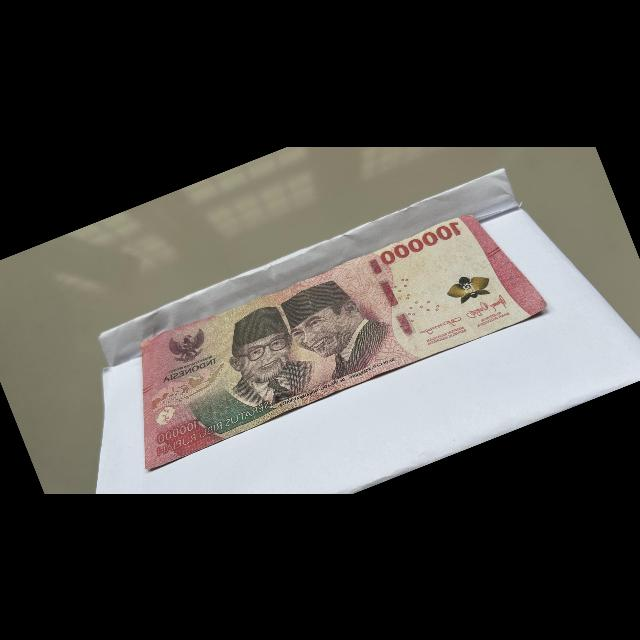Palsu-100k: (96, 191, 555, 474)
Tinta-Palsu-100k: (440, 265, 497, 309)
